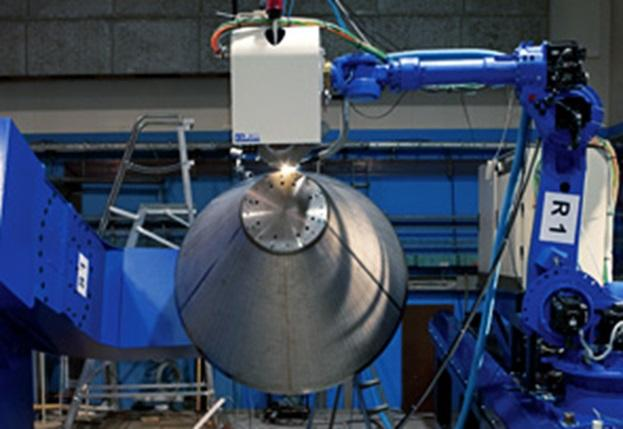thruster: (172, 167, 411, 396)
